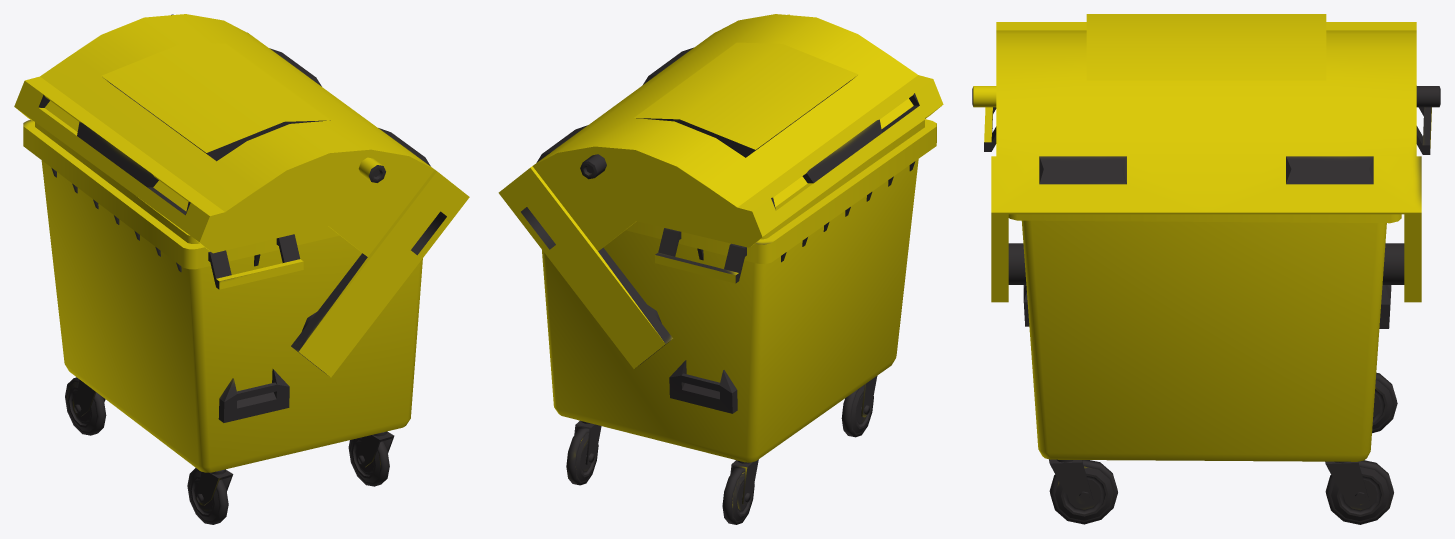
File: TonneGelb.glb
3 views of the same model, side by side, from view 1: azimuth 30°, elevation 25°; view 2: azimuth 150°, elevation 25°; view 3: azimuth 270°, elevation 25° (orthographic). The views are drawn at different scales.
Visible parts, largest first — view 1: Cube.001; view 2: Cube.001; view 3: Cube.001.
Part boxes in pixels (x1,y1,x2,y2): Cube.001: [14, 14, 469, 524]; Cube.001: [498, 14, 943, 524]; Cube.001: [972, 14, 1440, 524].
Size of what is drawn, in the model's own units: 2.59 by 3.46 by 3.39.
Materials: 1 (1 with a texture image).
